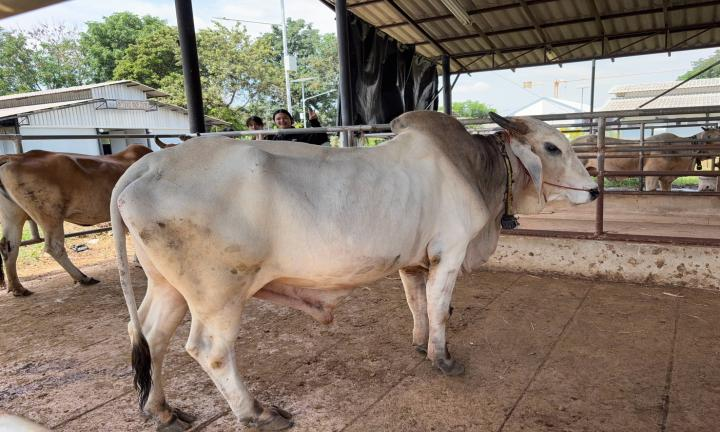Brahman: (110, 111, 598, 430)
